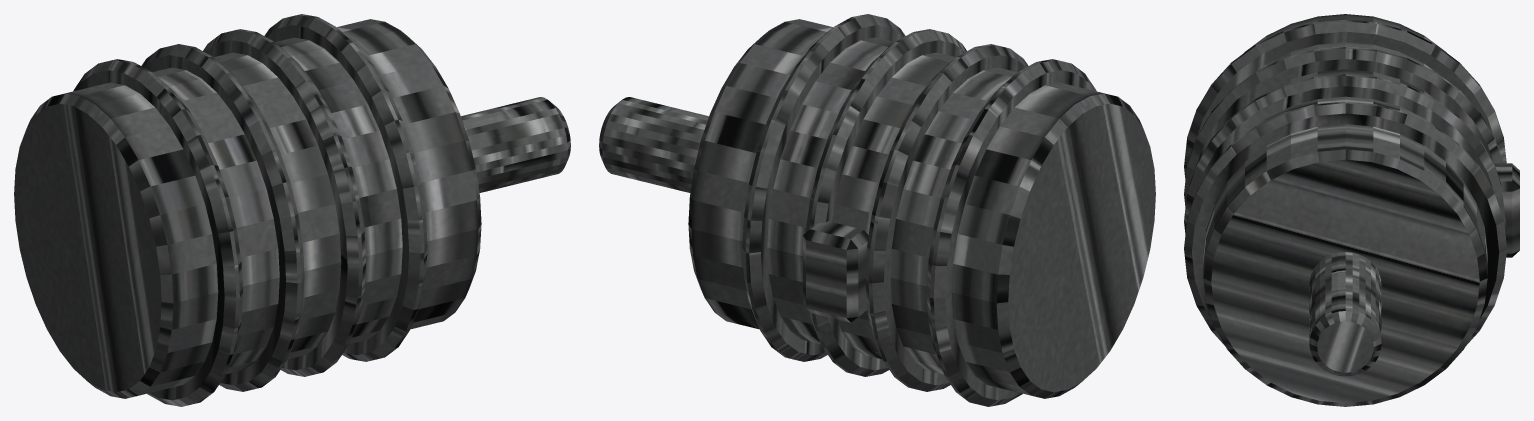
File: motor.glb
3 renders of one model, left to right at view 1: azimuth 30°, elevation 25°; view 2: azimuth 150°, elevation 25°; view 3: azimuth 270°, elevation 25°, orthographic. The views are drawn at different scales.
Parts seen in each view (by area): view 1: Cylinder; view 2: Cylinder; view 3: Cylinder.
Boxes of the visible parts, x1,y1,x2,y2 form: Cylinder: [14, 14, 570, 406]; Cylinder: [599, 14, 1155, 406]; Cylinder: [1184, 14, 1519, 406].
Size of the model in its own units: 0.38 by 0.25 by 0.26.
Materials: 1 (1 with a texture image).
